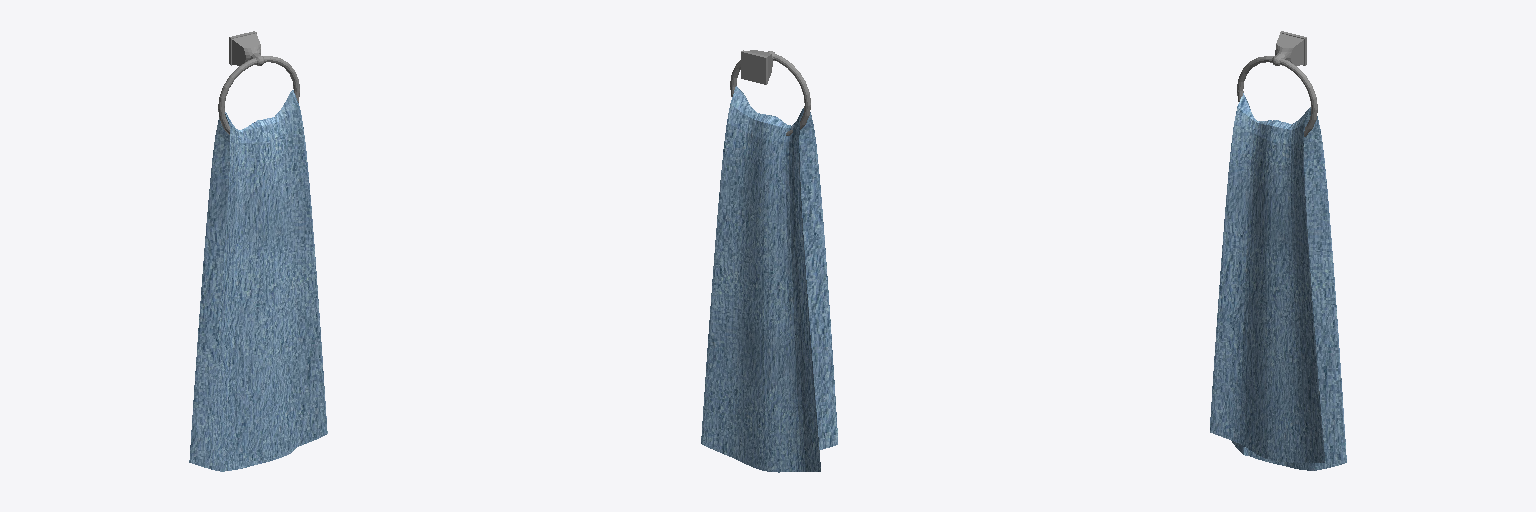
3 views of the same model, side by side, from view 1: azimuth 30°, elevation 25°; view 2: azimuth 150°, elevation 25°; view 3: azimuth 330°, elevation 25° (orthographic).
Parts seen in each view (by area): view 1: jintu_towe_0, ring_1, box_2; view 2: jintu_towe_0, ring_1, box2_3; view 3: jintu_towe_0, ring_1, box_2.
Boxes of the visible parts, x1=… form: jintu_towe_0: x1=189, y1=90, x2=327, y2=471; ring_1: x1=218, y1=56, x2=299, y2=134; box_2: x1=232, y1=33, x2=260, y2=65; jintu_towe_0: x1=701, y1=86, x2=837, y2=472; ring_1: x1=730, y1=54, x2=810, y2=135; box2_3: x1=741, y1=50, x2=767, y2=84; jintu_towe_0: x1=1210, y1=93, x2=1346, y2=470; ring_1: x1=1237, y1=56, x2=1317, y2=136; box_2: x1=1275, y1=33, x2=1303, y2=65.
Bounding box in the file's own units: 10.51 × 35.41 × 4.34.
2 materials, 1 textured.